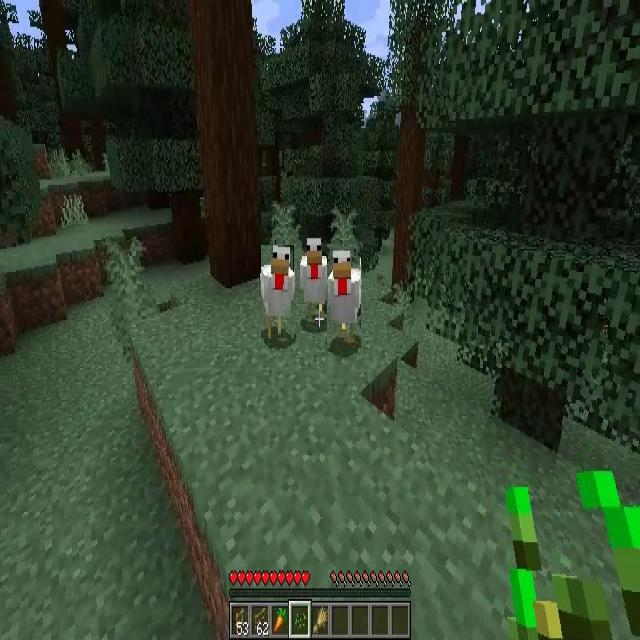duck: (328, 244, 362, 348), (261, 245, 294, 338), (299, 238, 327, 322)
